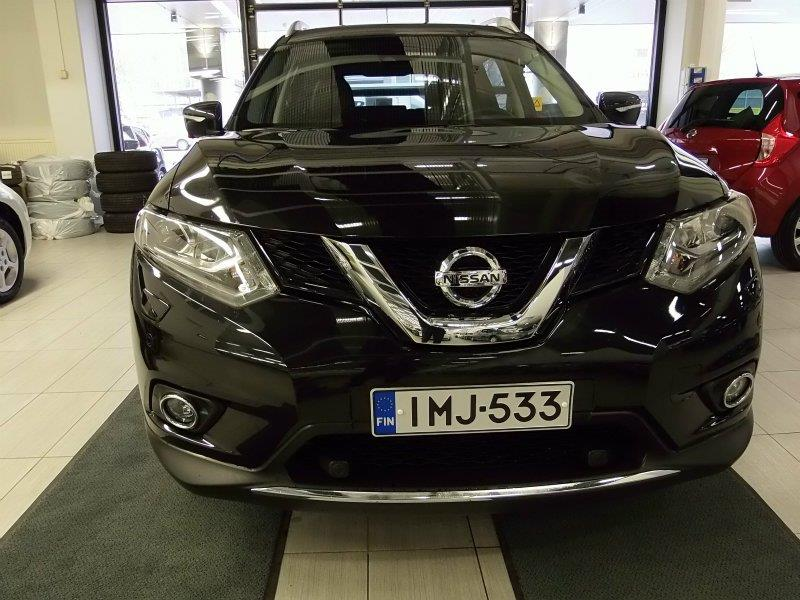license: (371, 379, 572, 438)
